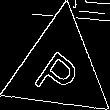P_NE: (31, 37, 87, 100)
